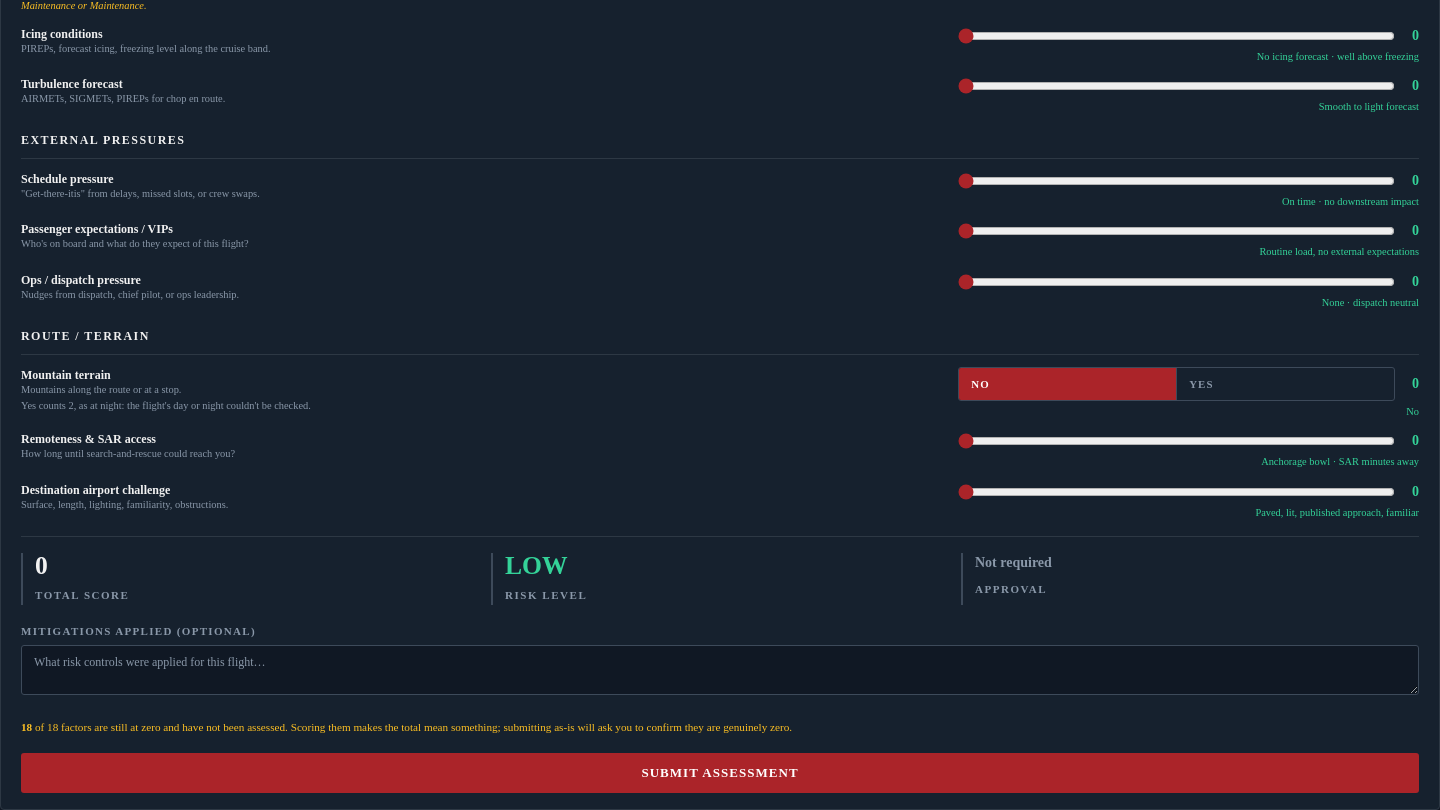
Test case: factors nobody assessed › offers going back to score them, and going back clears the prompt
The width and height of the screenshot is (1440, 810).
(page scrolled)
What coordinates should you click on to do the following:
click the button "Submit assessment"
I would click on:
 (720, 773)
Its box is x1=21 y1=753 x2=1419 y2=793.
(page scrolled)
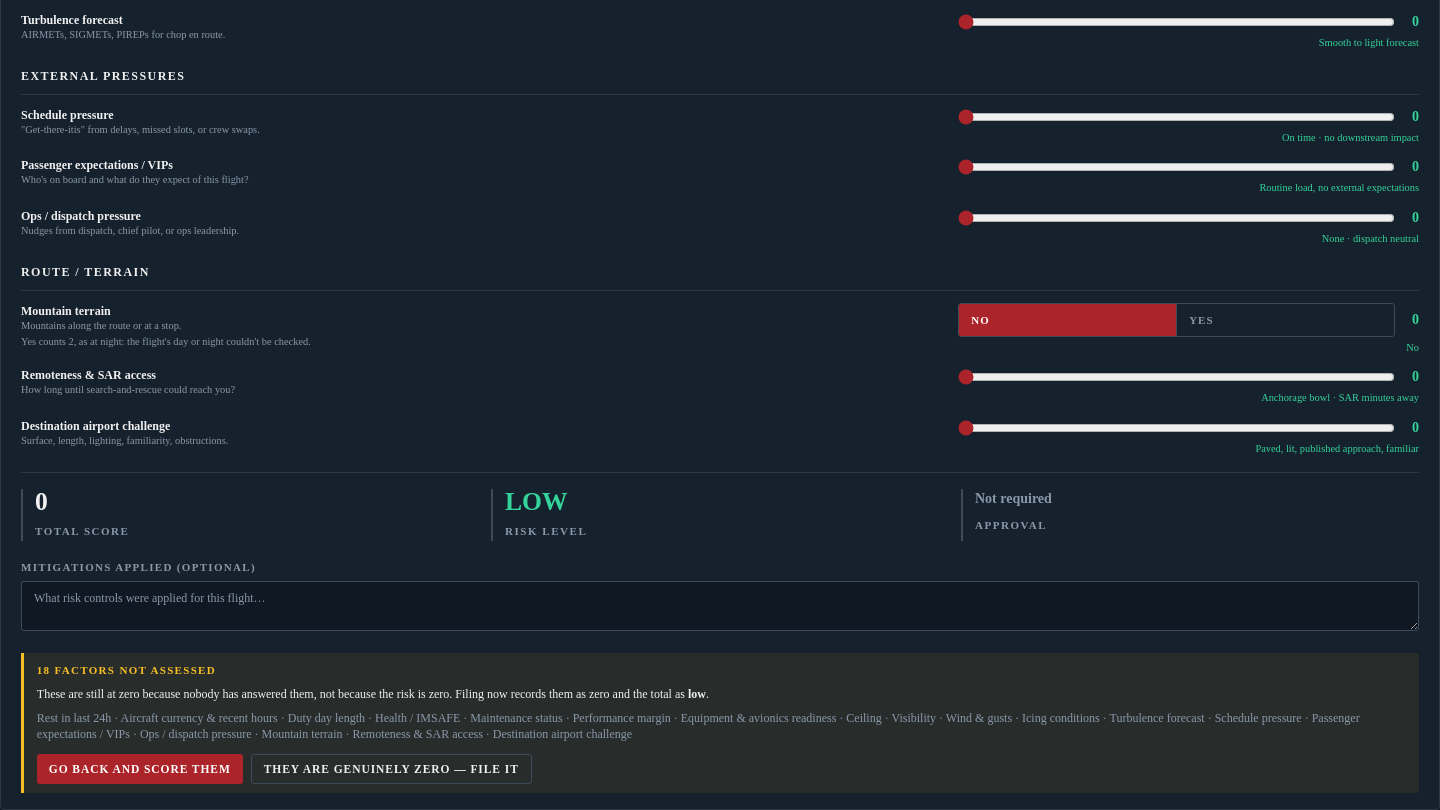
What coordinates should you click on to do the following:
click the button "Go back and score them"
I would click on:
 (140, 769)
Its box is x1=37 y1=754 x2=243 y2=784.
(page scrolled)
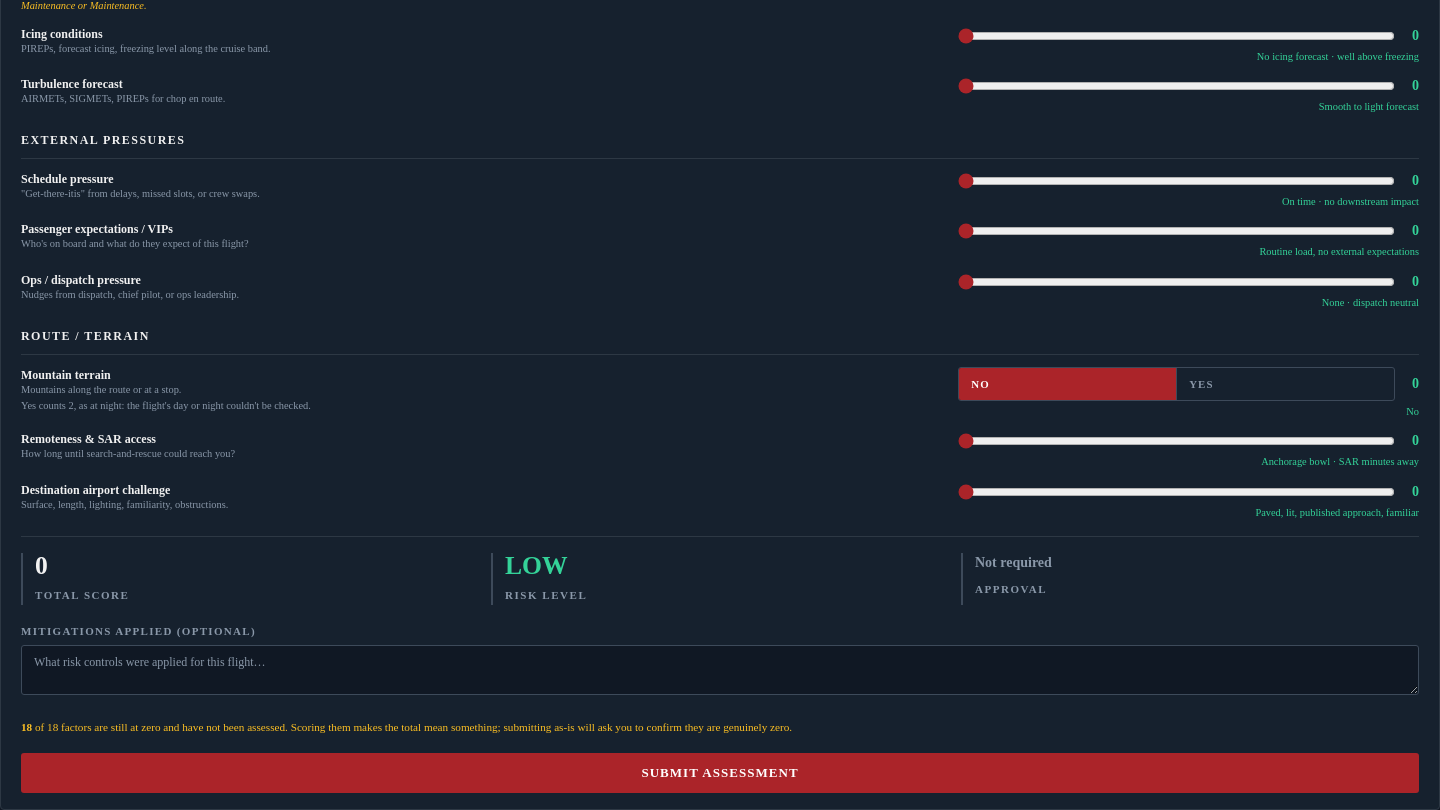
Expected: the button "Submit assessment" is shown, x1=21 y1=753 x2=1419 y2=793
